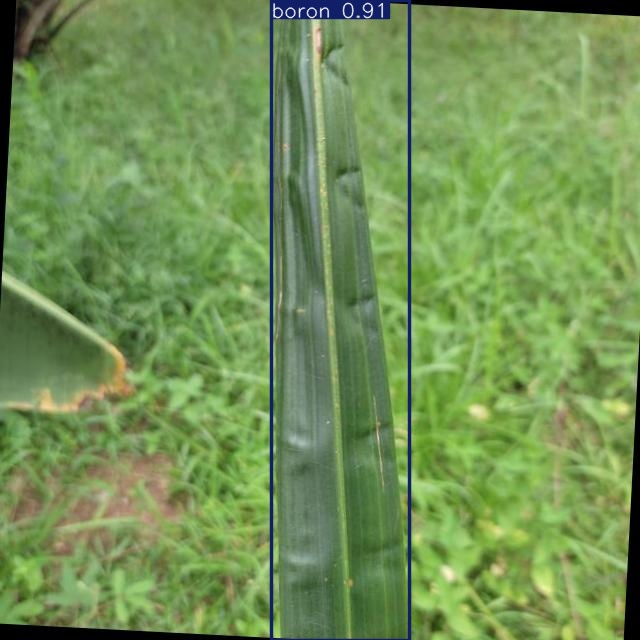nitrogen: (271, 0, 409, 640)
